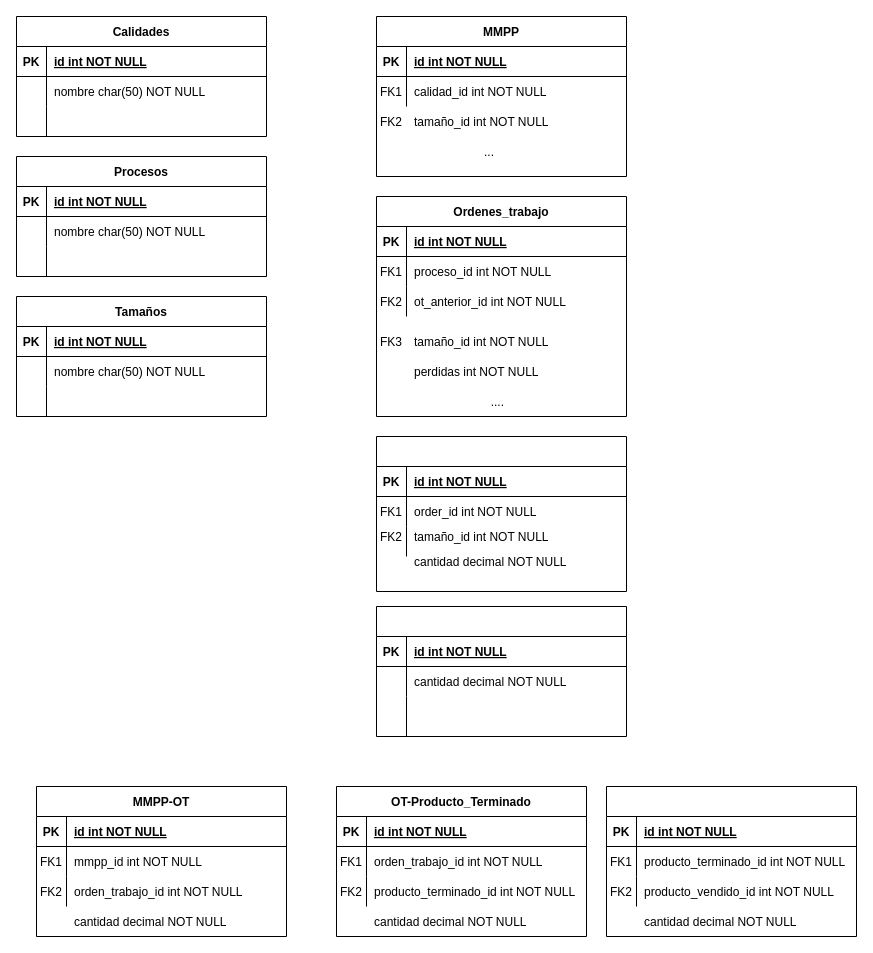
Some shapes in this 873 by 953 pixel diagram are drawn without their labels. The box of each missing label's shape, as (x1, y1, x2, y2) in pixels:
Producto_Terminado-Producto_Vendido: (606, 786, 856, 936)
Productos terminado: (376, 436, 626, 592)
Productos vendidos: (376, 606, 626, 736)
